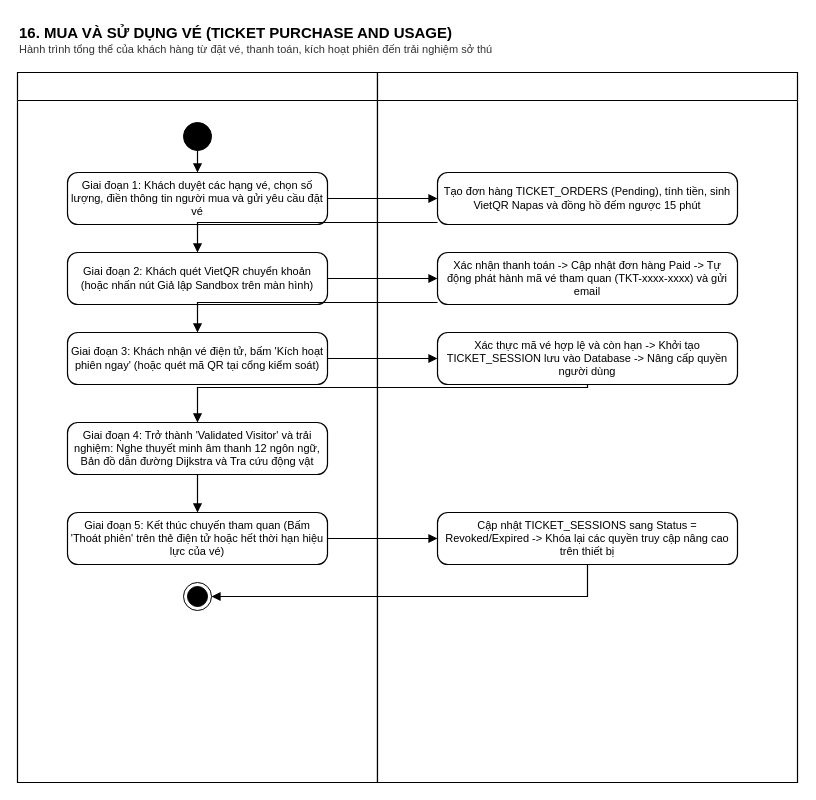
Image size: 816x800. Some labels were removed from this diagram. The shapes that lost their labels are listed below. From the top down, each one's box as (x1, y1, x2, y2) in pixels, then its label:
(16, 71, 378, 783): Người dùng (Visitor -> Validated Visitor)
(376, 71, 798, 783): Hệ thống (System)
